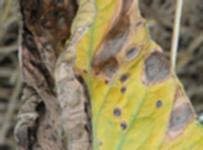Tomato Early blight leaf: (21, 0, 203, 150)
